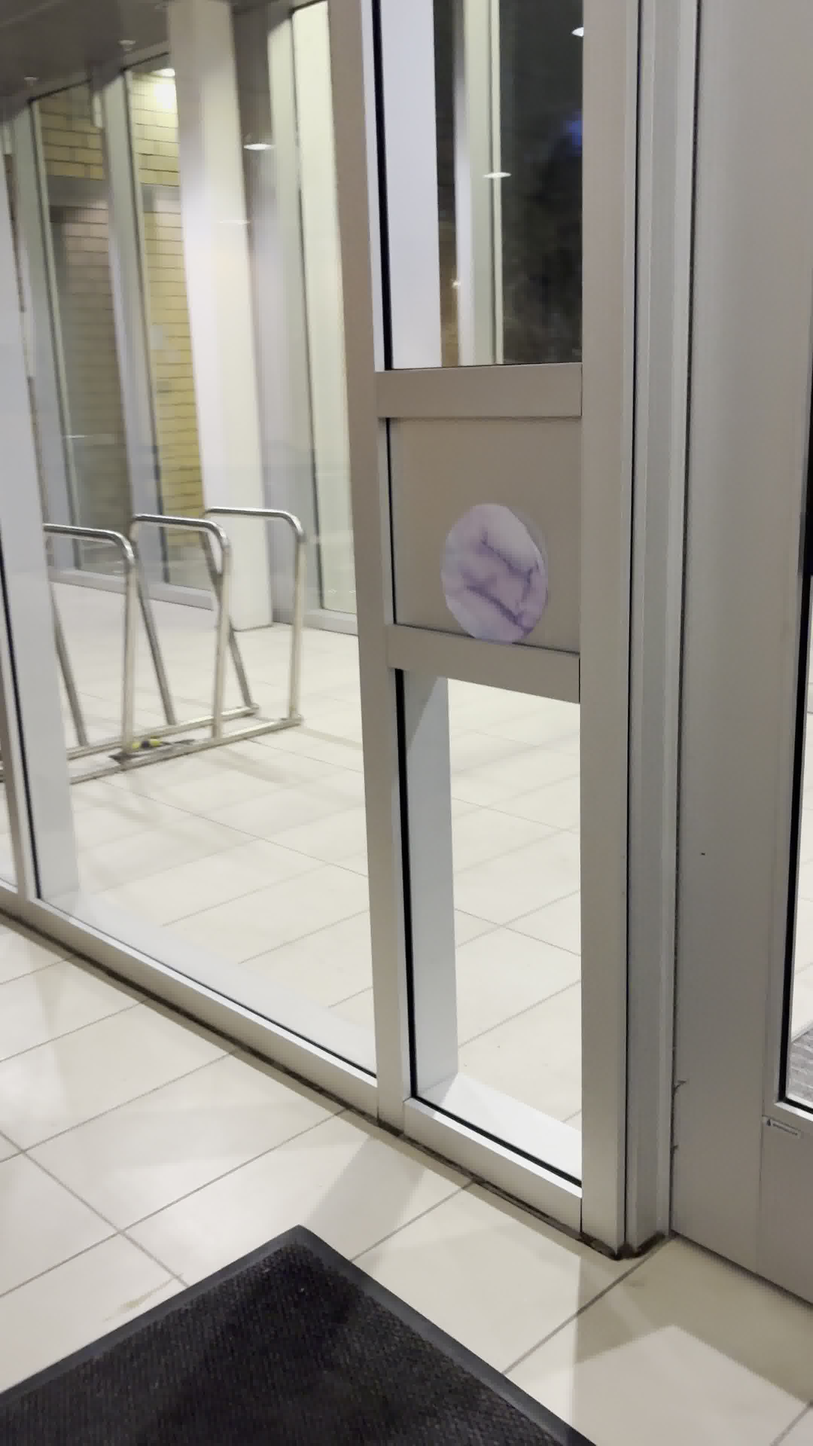Target: (440, 503, 550, 646)
